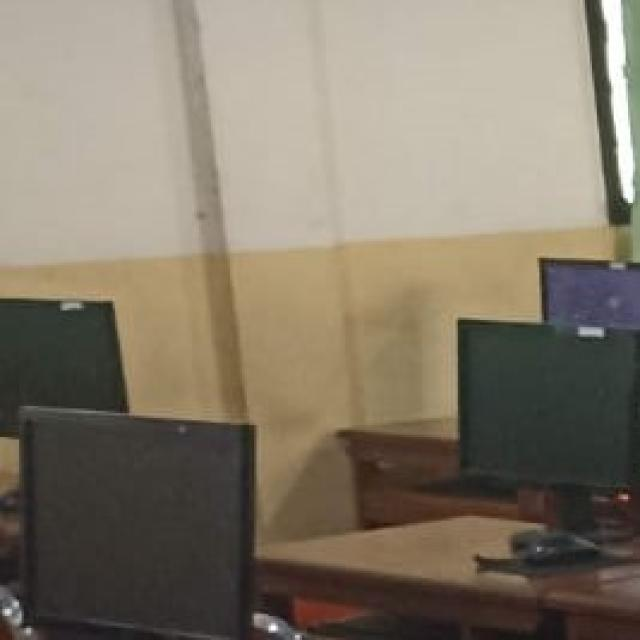offscreen: (21, 408, 253, 639), (461, 321, 639, 484), (0, 302, 125, 436), (542, 261, 640, 328)
